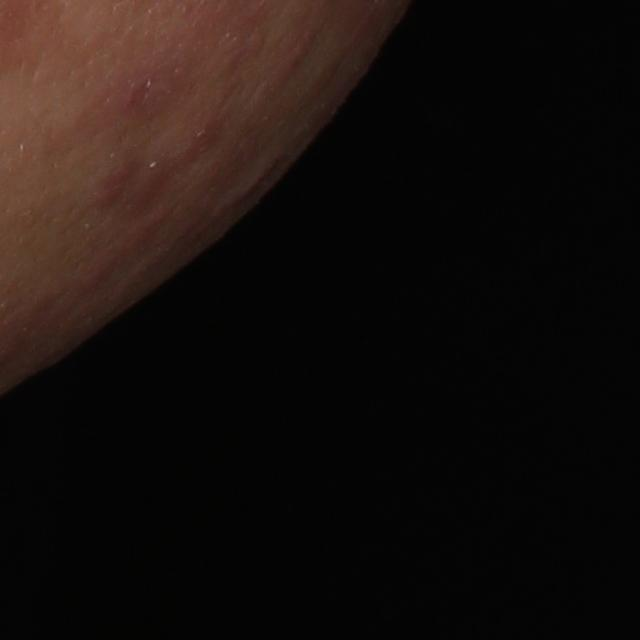papule: (107, 68, 176, 125), (90, 160, 135, 209)
